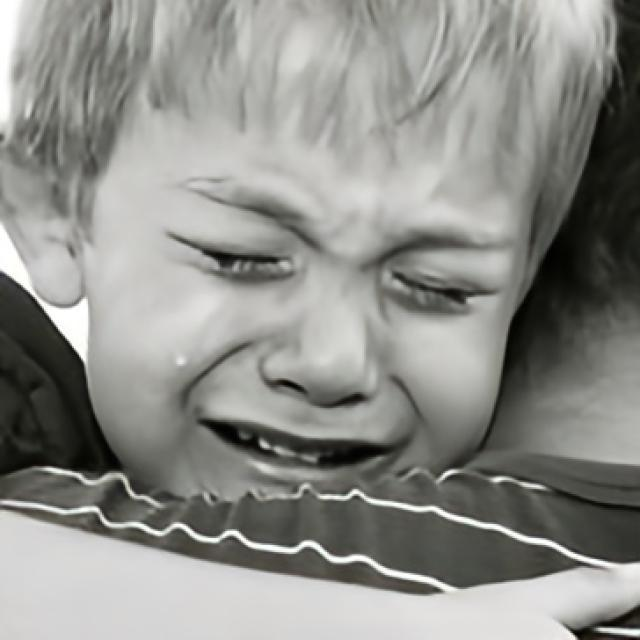sad: (91, 0, 526, 547)
